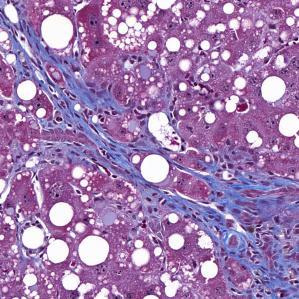fibrosis: (191, 171, 299, 281), (46, 68, 134, 150)
